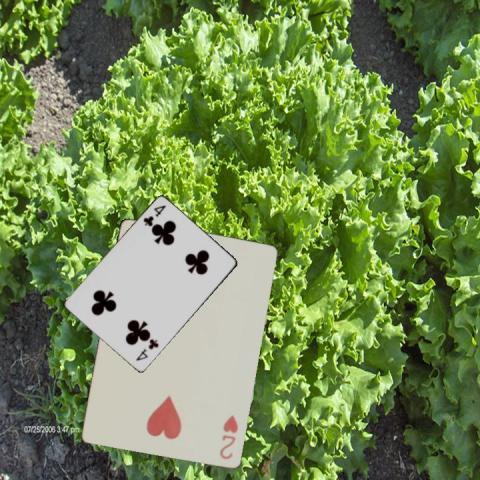2h: (216, 411, 239, 461)
4c: (133, 336, 160, 363), (140, 202, 167, 228)
